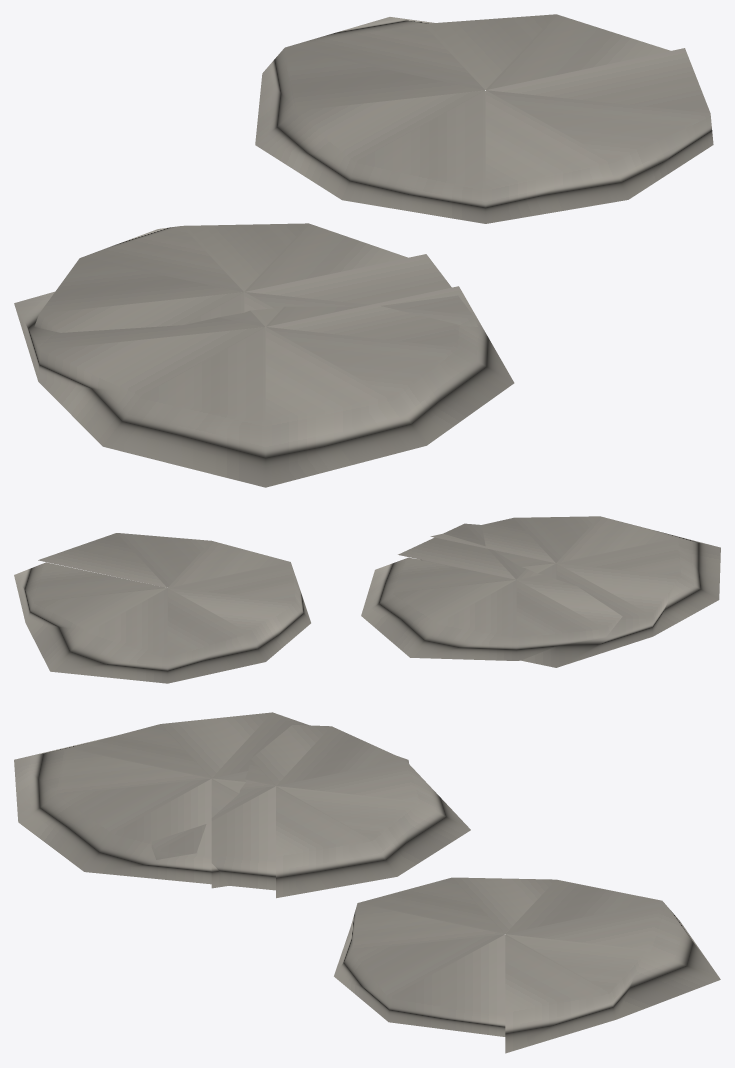
The model's file is path-1.gltf.
The picture shows the model from 3 angles, top to bottom: view 1: azimuth 30°, elevation 25°; view 2: azimuth 150°, elevation 25°; view 3: azimuth 270°, elevation 25°; orthographic projection. The views are drawn at different scales.
Bounding box in the file's own units: 1.42 × 0.06 × 1.31.
Materials: 1 (1 with a texture image).
